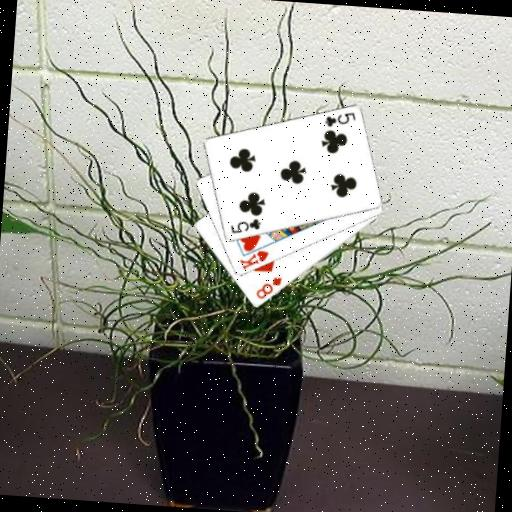5C: (322, 108, 358, 131), (227, 214, 262, 237)
8D: (253, 273, 284, 302)
KH: (236, 247, 270, 274)
